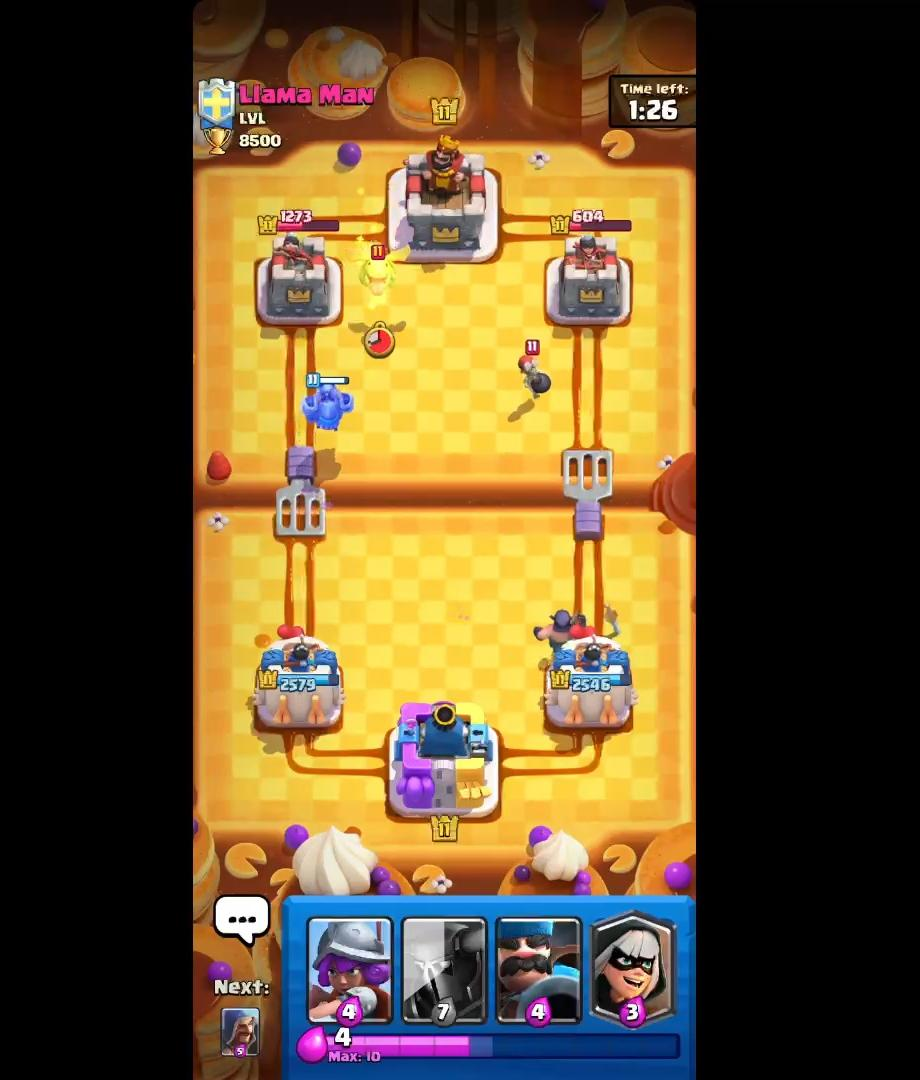Baby Dragon: (347, 238, 414, 303)
Bomber: (509, 334, 558, 403)
